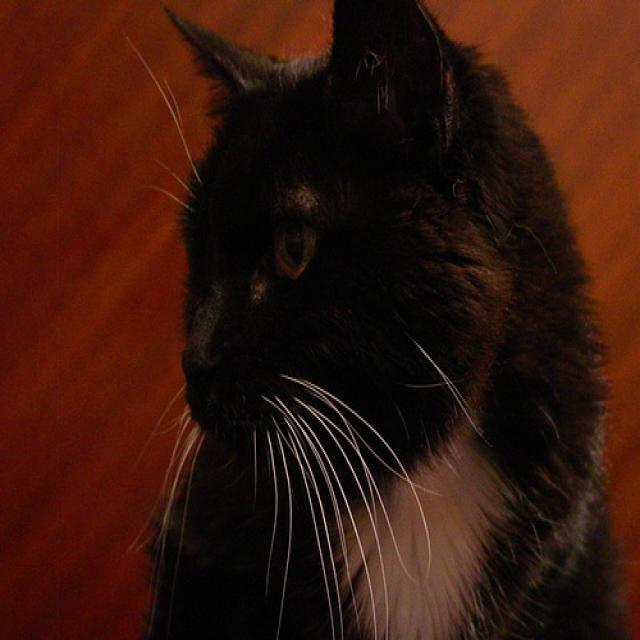cat: (153, 12, 623, 640)
